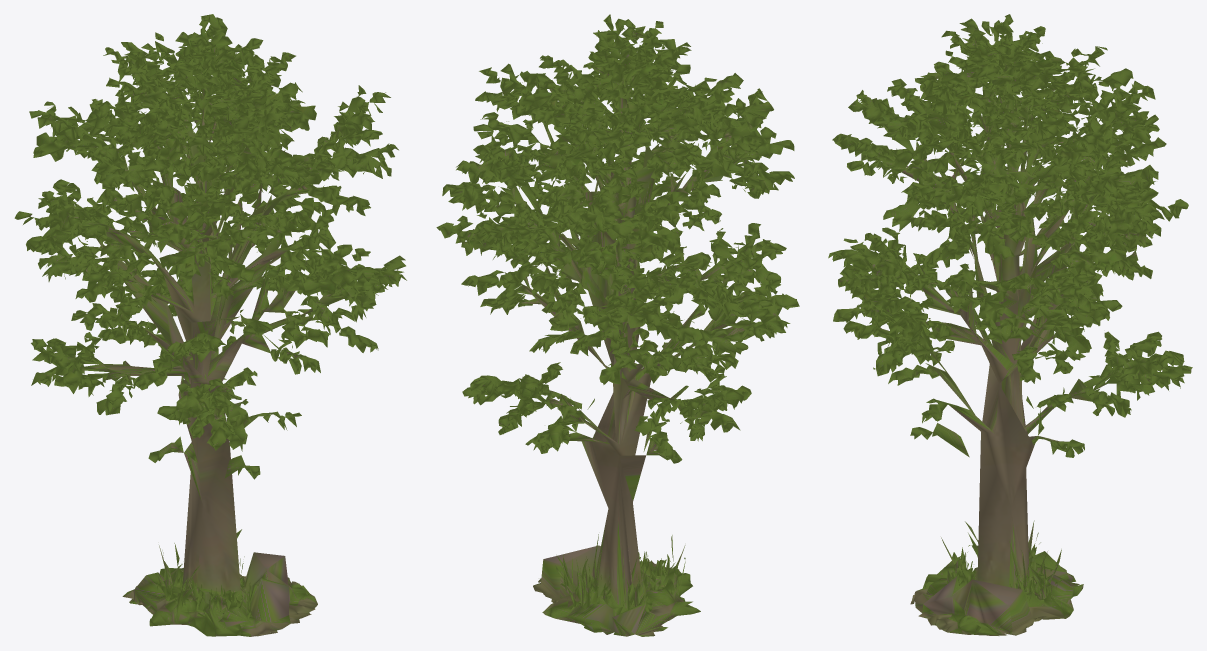
The model's file is lib_tp_tanbi.near.glb.
3 renders of one model, left to right at view 1: azimuth 30°, elevation 25°; view 2: azimuth 150°, elevation 25°; view 3: azimuth 270°, elevation 25°, orthographic.
Bounding box in the file's own units: 1.05 × 1.88 × 1.08.
Materials: 1 (1 with a texture image).
